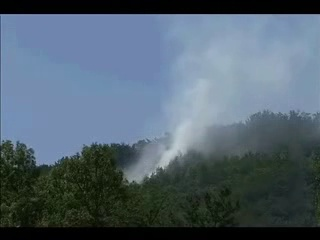smoke: (174, 12, 271, 158), (108, 99, 194, 184)
